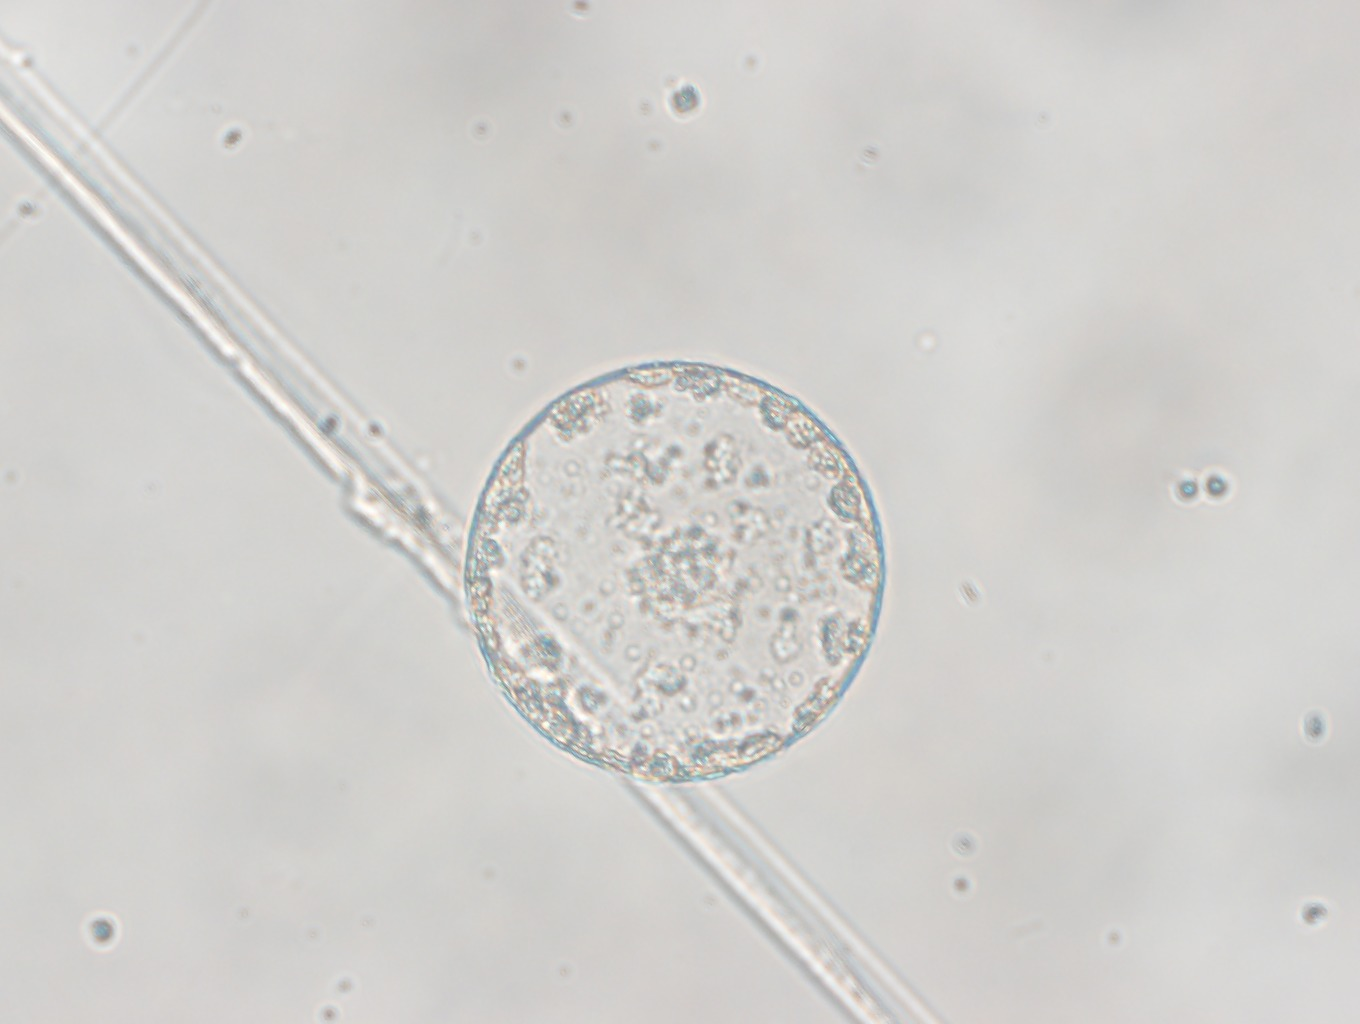coscinodiscus: (460, 354, 887, 784)
